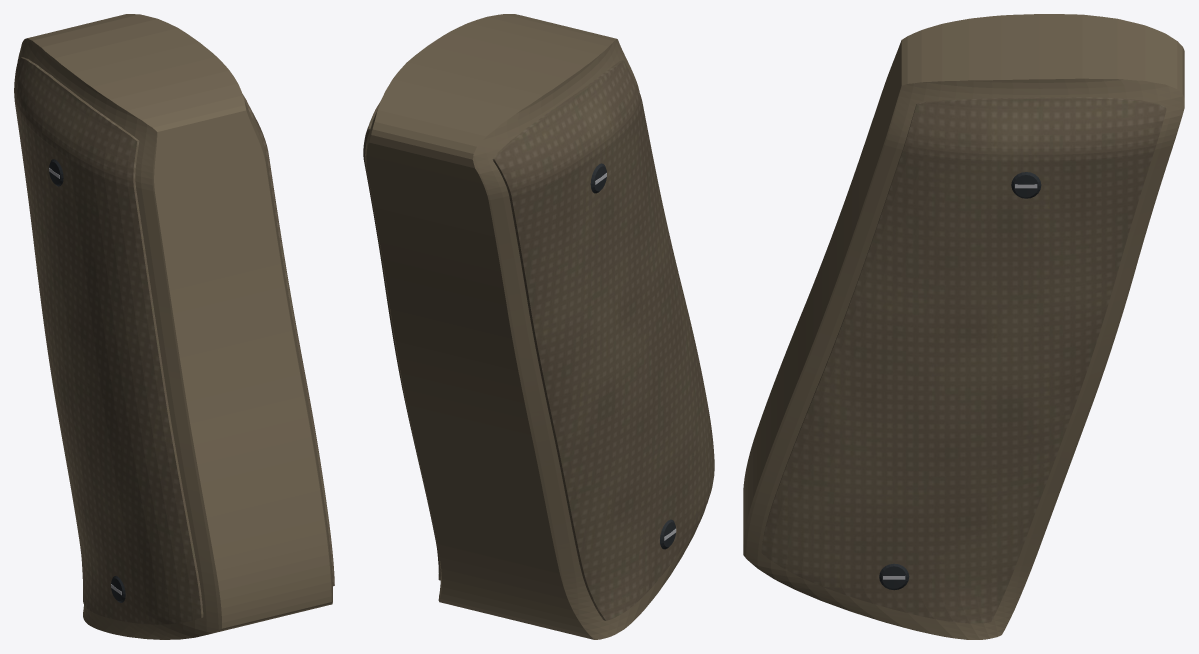
Rendered from talas_guardia.glb.
3 views of the same model, side by side, from view 1: azimuth 30°, elevation 25°; view 2: azimuth 150°, elevation 25°; view 3: azimuth 270°, elevation 25° (orthographic). The views are drawn at different scales.
Parts seen in each view (by area): view 1: talas_guardia_polimero_fde, talas_guardia_polimero_pontos_fde, talas_guardia_aco_oxidado; view 2: talas_guardia_polimero_fde, talas_guardia_polimero_pontos_fde, talas_guardia_aco_oxidado; view 3: talas_guardia_polimero_pontos_fde, talas_guardia_polimero_fde, talas_guardia_aco_oxidado.
Part boxes in pixels (left/top/right/bottom): talas_guardia_polimero_fde: left=17, top=14, right=332, bottom=639; talas_guardia_polimero_pontos_fde: left=14, top=57, right=334, bottom=624; talas_guardia_aco_oxidado: left=49, top=159, right=125, bottom=602; talas_guardia_polimero_fde: left=365, top=14, right=705, bottom=639; talas_guardia_polimero_pontos_fde: left=363, top=60, right=714, bottom=620; talas_guardia_aco_oxidado: left=590, top=163, right=675, bottom=549; talas_guardia_polimero_pontos_fde: left=761, top=97, right=1166, bottom=623; talas_guardia_polimero_fde: left=743, top=14, right=1184, bottom=639; talas_guardia_aco_oxidado: left=879, top=172, right=1041, bottom=590.
Bounding box in the file's own units: 0.0334 × 0.0933 × 0.0675.
4 materials, 1 textured.
